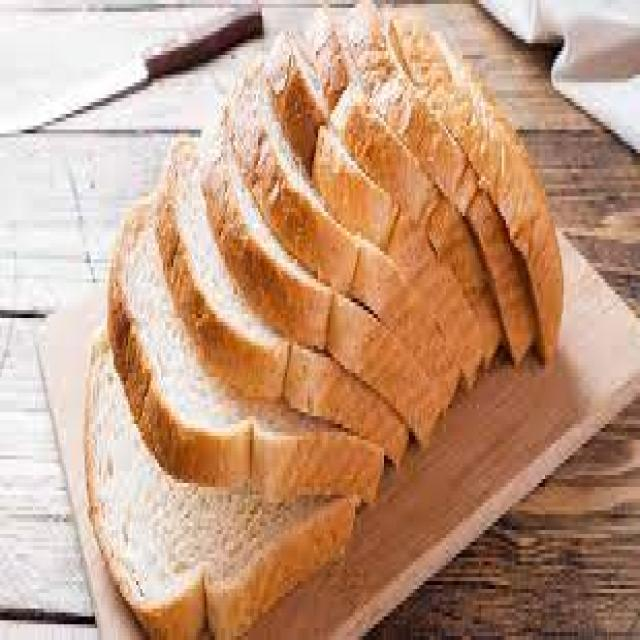Bread: (85, 336, 355, 637), (109, 209, 383, 502), (156, 145, 290, 398), (226, 64, 357, 289), (203, 124, 331, 348)
